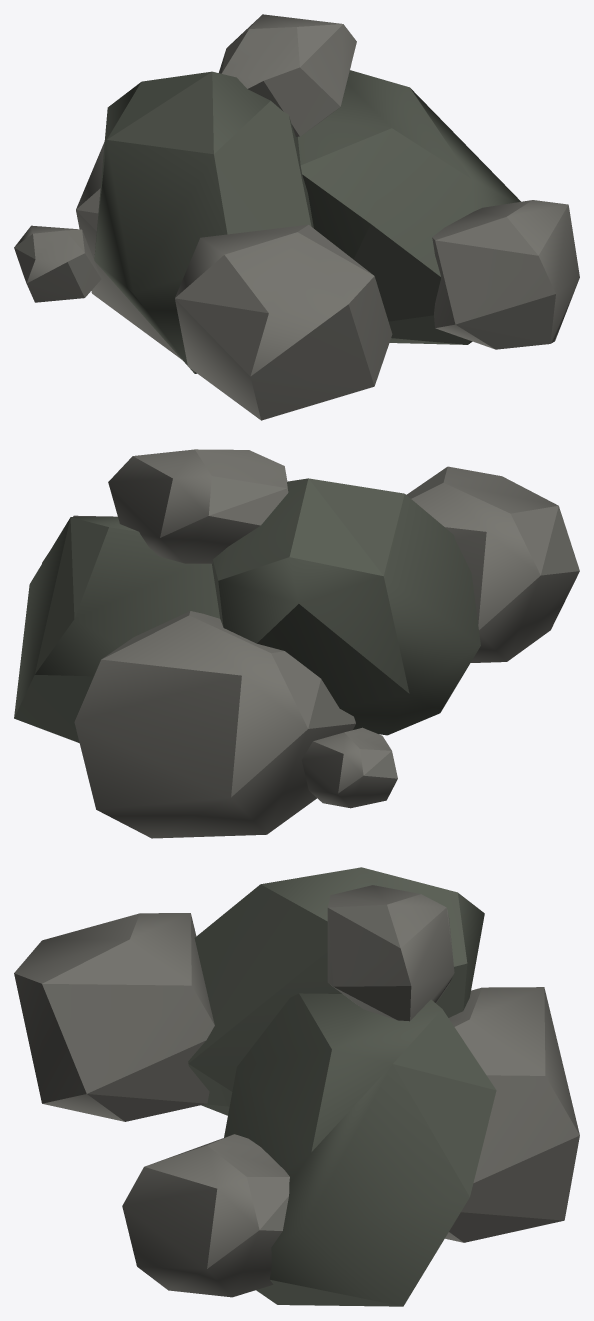
Rendered from wolfden.fbx.
3 renders of one model, top to bottom at view 1: azimuth 30°, elevation 25°; view 2: azimuth 150°, elevation 25°; view 3: azimuth 270°, elevation 25°, orthographic. The views are drawn at different scales.
Parts seen in each view (by area): view 1: polySurface197; view 2: polySurface197; view 3: polySurface197.
Boxes of the visible parts, x1,y1,x2,y2 form: polySurface197: [14, 14, 579, 420]; polySurface197: [14, 449, 579, 838]; polySurface197: [14, 867, 579, 1306].
Size of the model in its own units: 53.96 by 38.23 by 55.95.
Materials: 1 (1 with a texture image).
